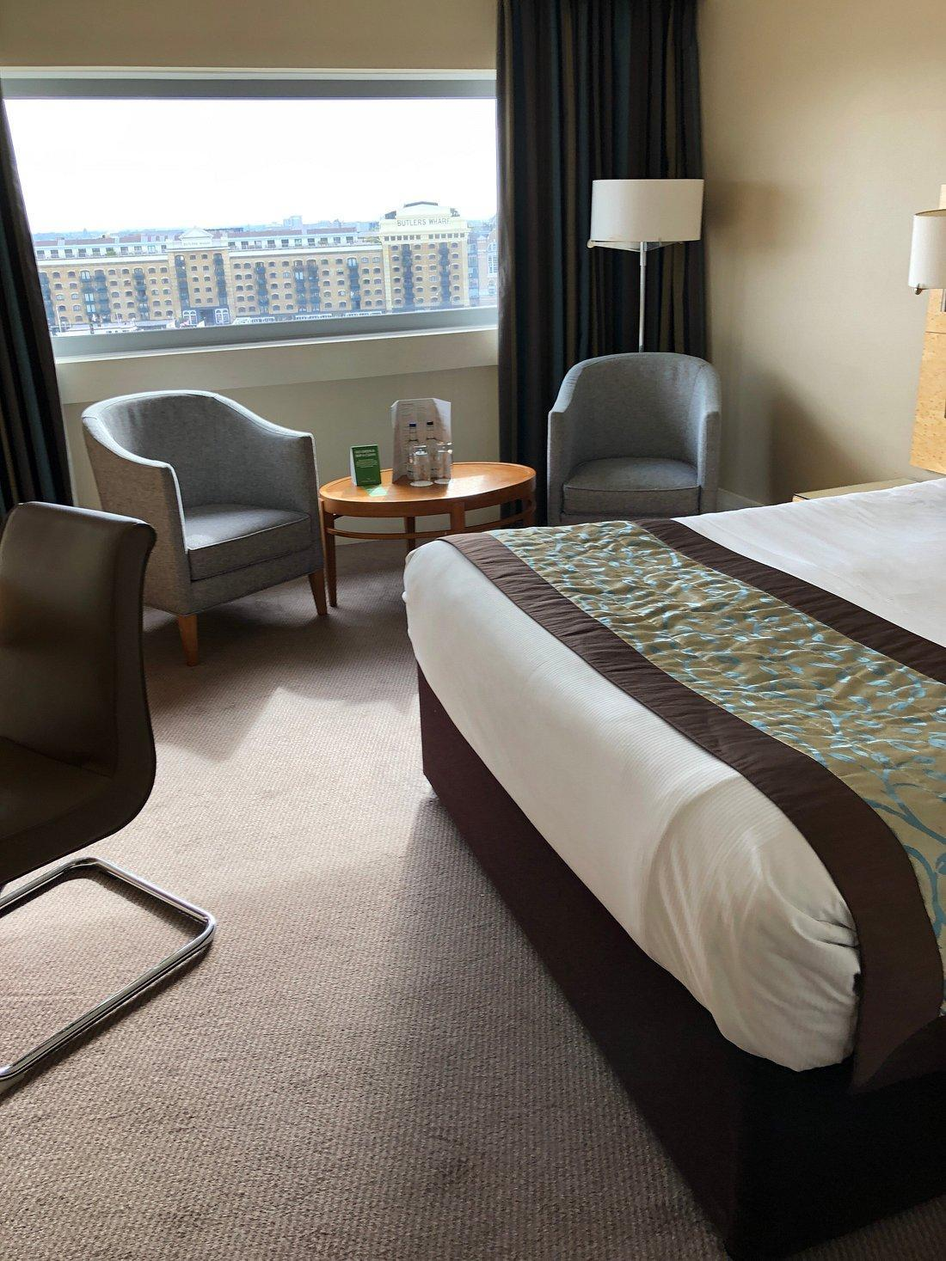chair: (4, 503, 202, 1087), (103, 402, 329, 664), (557, 361, 740, 520)
clean_bed: (406, 484, 946, 1242)
